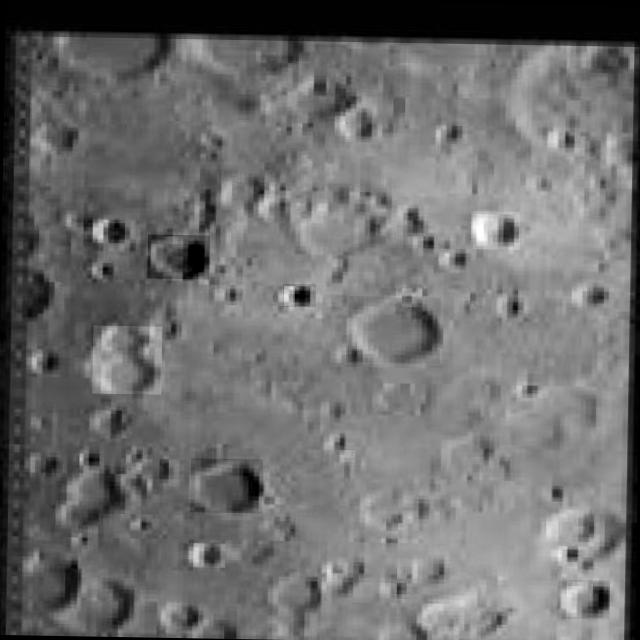crater: (348, 296, 440, 364), (92, 325, 162, 394), (190, 458, 262, 514), (146, 234, 210, 279), (472, 210, 520, 250), (561, 579, 609, 619), (192, 542, 225, 568), (282, 283, 316, 307)
